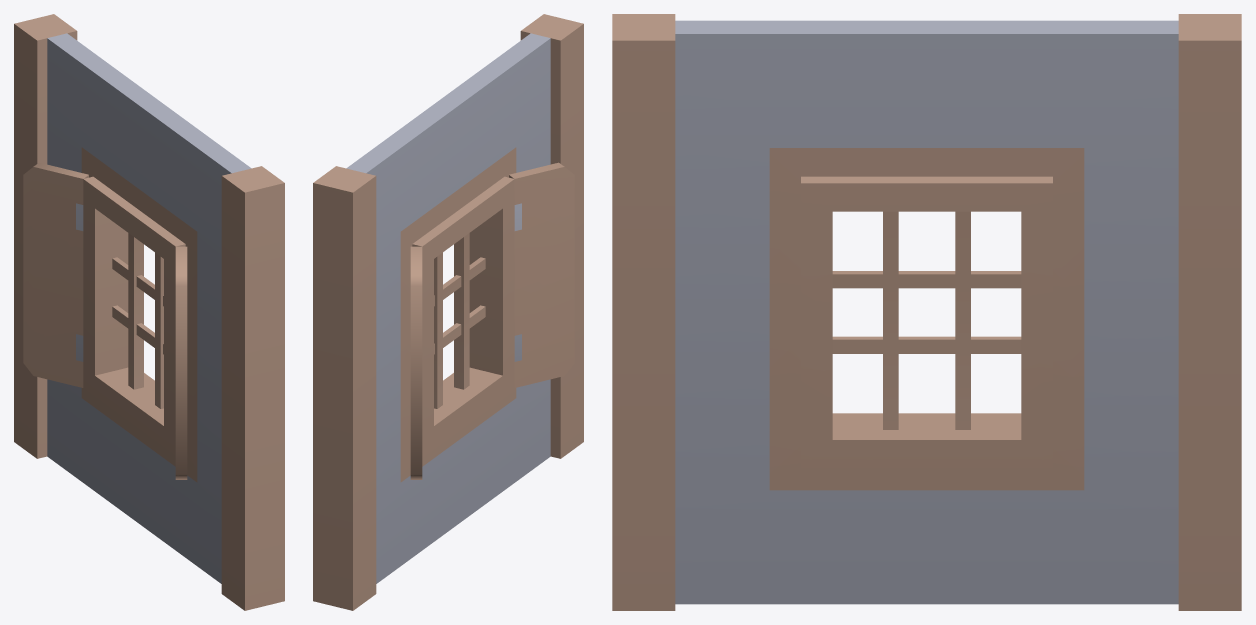
Rendered from wall-window-shutters.glb.
The picture shows the model from 3 angles, left to right: view 1: azimuth 30°, elevation 25°; view 2: azimuth 150°, elevation 25°; view 3: azimuth 270°, elevation 25°; orthographic projection. The views are drawn at different scales.
Parts seen in each view (by area): view 1: wall-window-shutters; view 2: wall-window-shutters; view 3: wall-window-shutters.
Part boxes in pixels (left/top/right/bottom): wall-window-shutters: left=14, top=14, right=284, bottom=610; wall-window-shutters: left=313, top=14, right=583, bottom=610; wall-window-shutters: left=612, top=14, right=1241, bottom=610.
Size of the model in its own units: 0.175 by 1 by 1.
